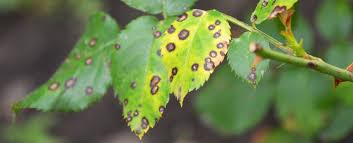leaf_spot: (34, 9, 330, 128)
